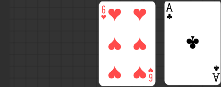4H: (101, 5, 108, 21)
AC: (212, 65, 221, 83)
